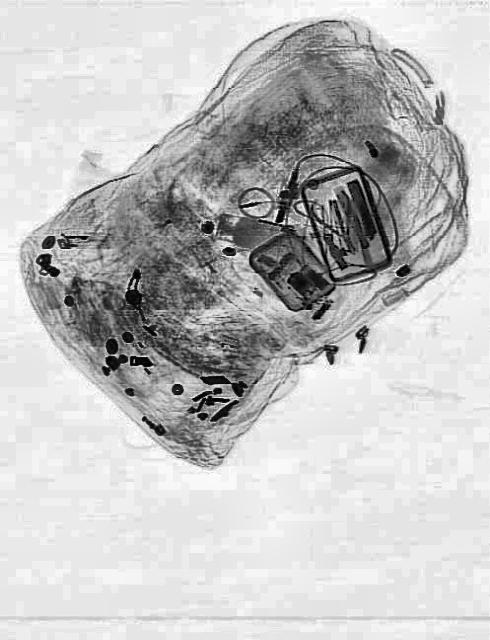Pliers: (308, 184, 372, 266)
